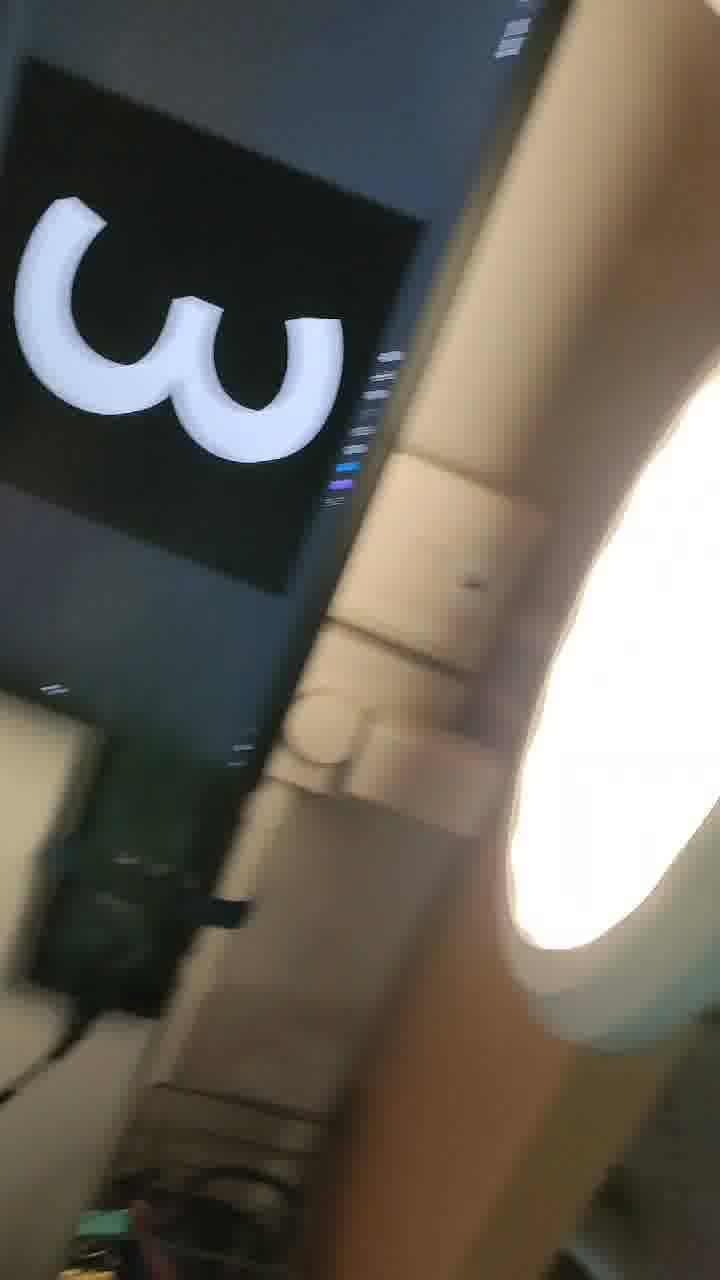three: (12, 147, 383, 494)
